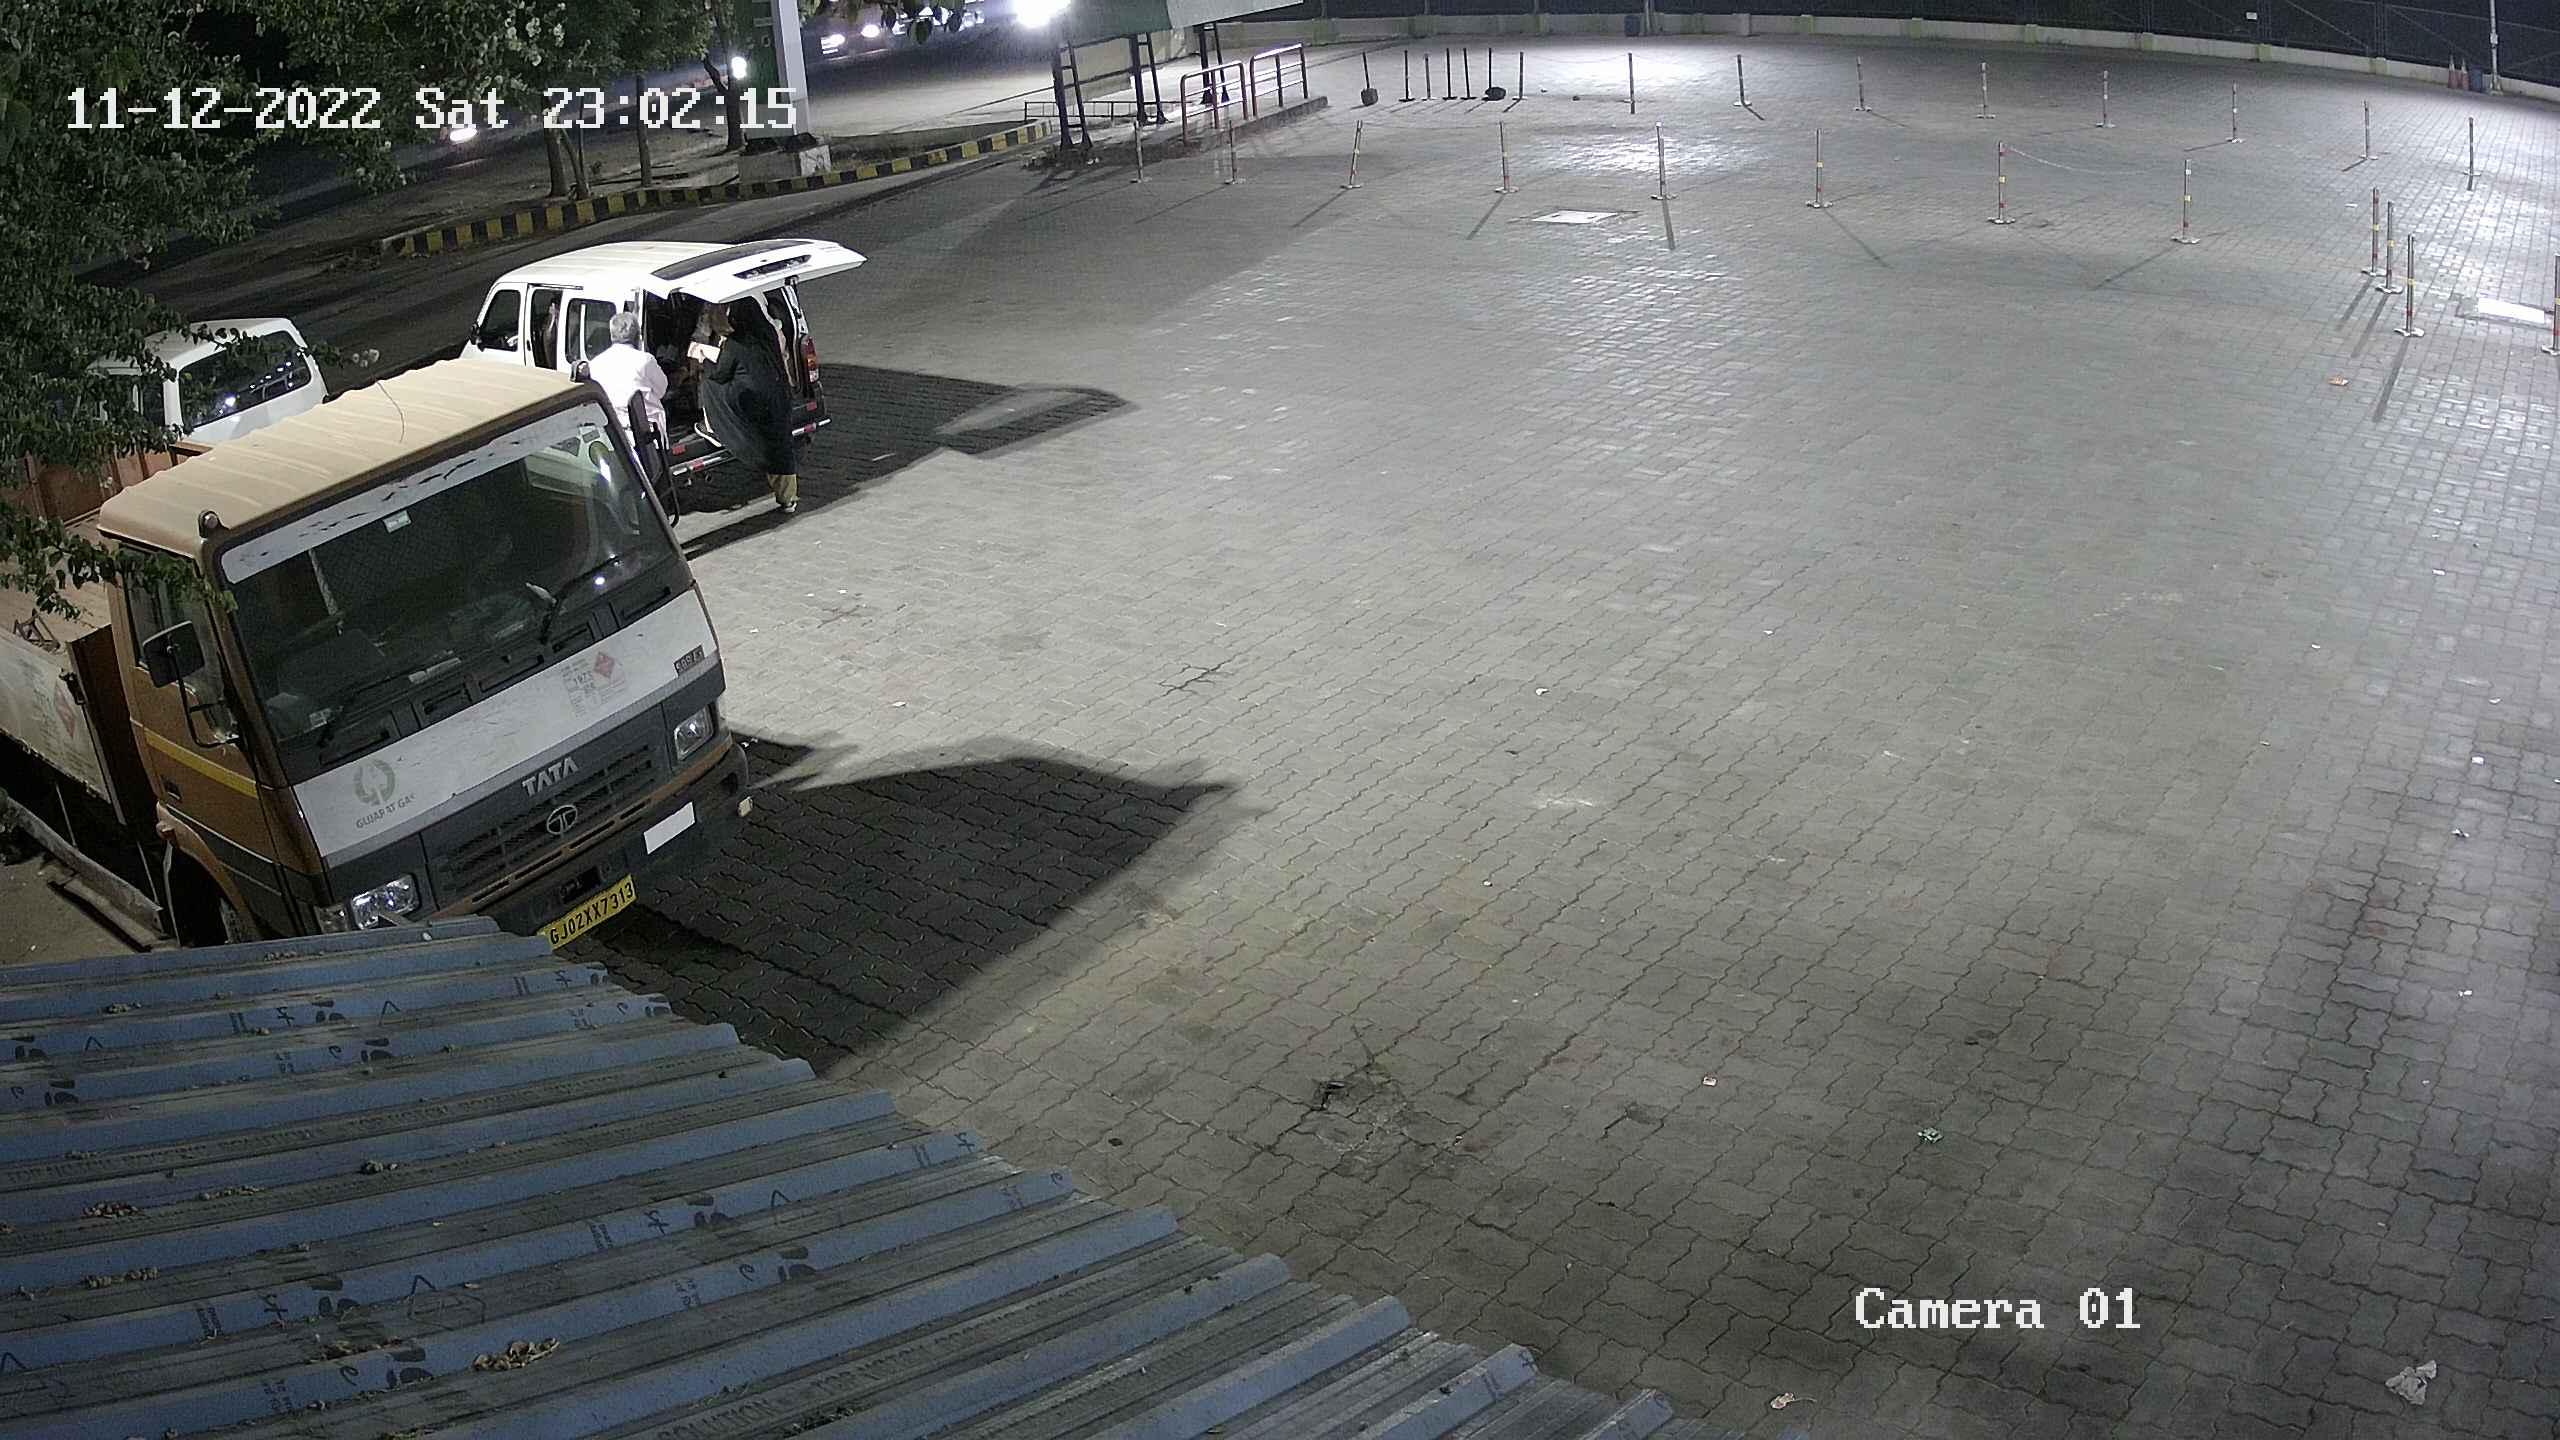Car: (411, 227, 870, 524), (40, 301, 348, 459)
HMV: (4, 329, 791, 964)
